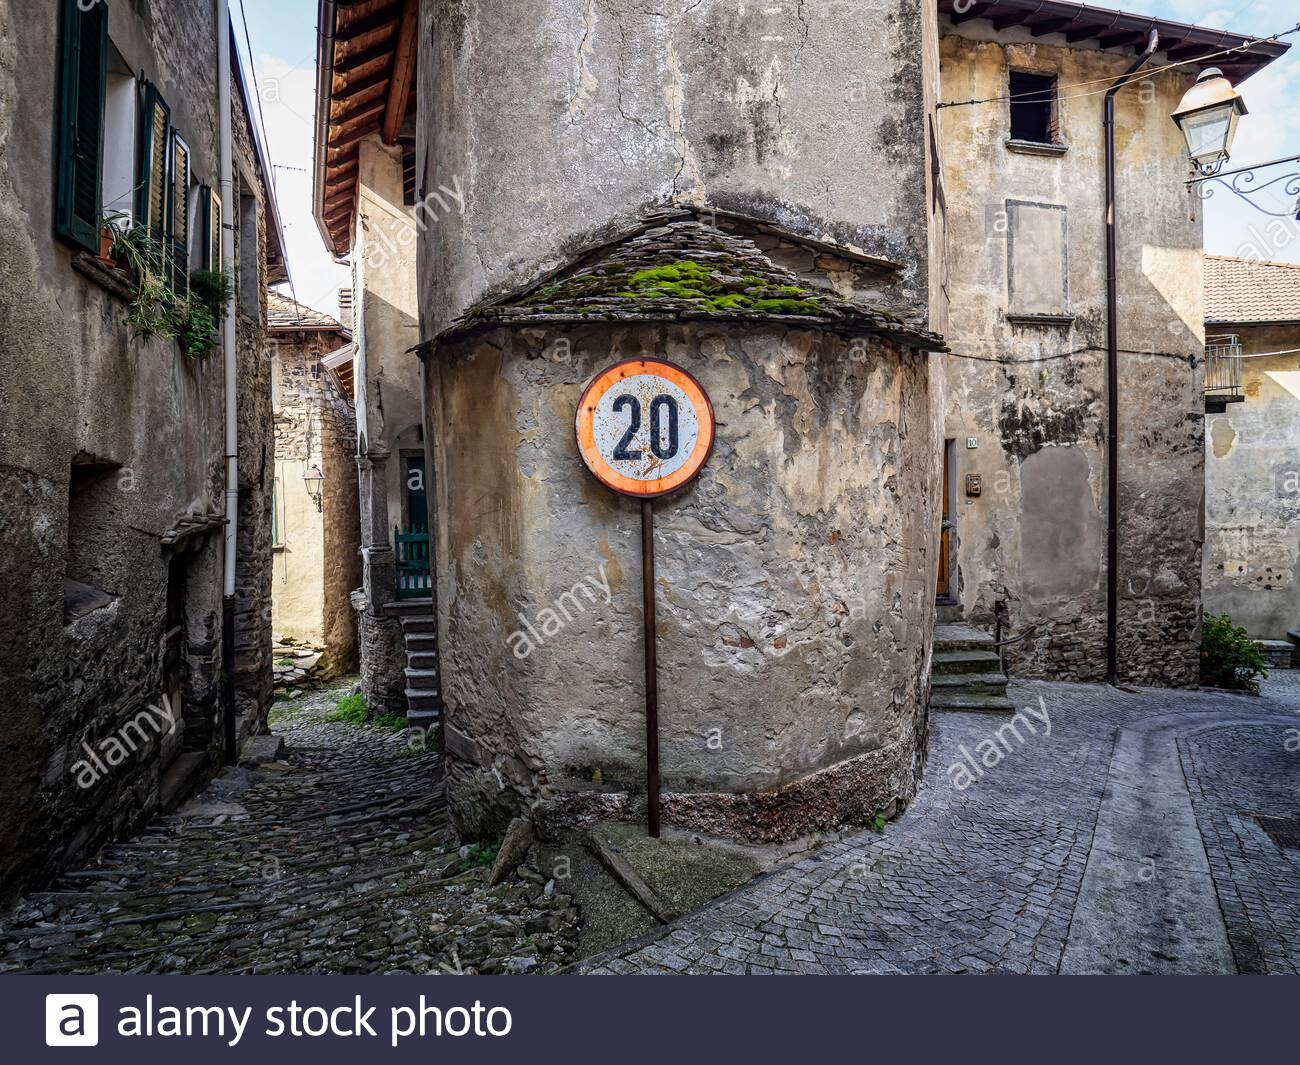speed_limit_20: (575, 359, 714, 499)
